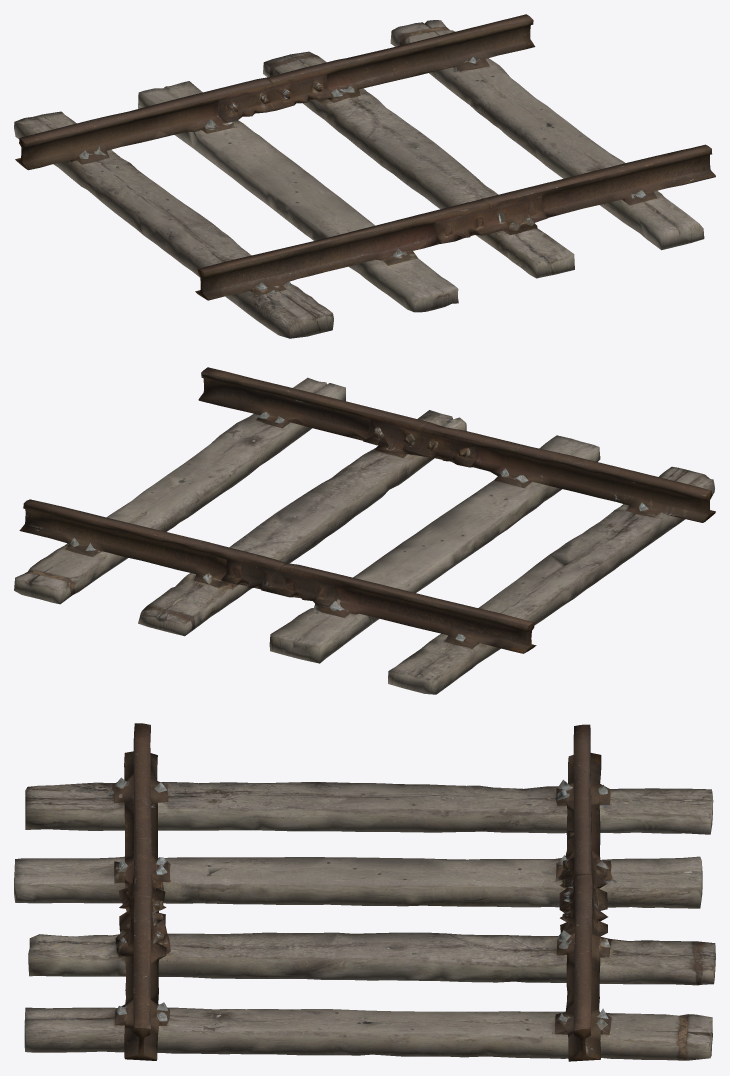
The model's file is rail_section.glb.
The picture shows the model from 3 angles, top to bottom: view 1: azimuth 30°, elevation 25°; view 2: azimuth 150°, elevation 25°; view 3: azimuth 270°, elevation 25°; orthographic projection. The views are drawn at different scales.
Parts seen in each view (by area): view 1: ufekaevdw_LOD0_TIER0_000; view 2: ufekaevdw_LOD0_TIER0_000; view 3: ufekaevdw_LOD0_TIER0_000.
Boxes of the visible parts, x1,y1,x2,y2 form: ufekaevdw_LOD0_TIER0_000: (14,14,715,338); ufekaevdw_LOD0_TIER0_000: (14,367,715,694); ufekaevdw_LOD0_TIER0_000: (14,723,715,1061).
Bounding box in the file's own units: 2.5 × 0.2193 × 2.43.
Materials: 1 (1 with a texture image).
